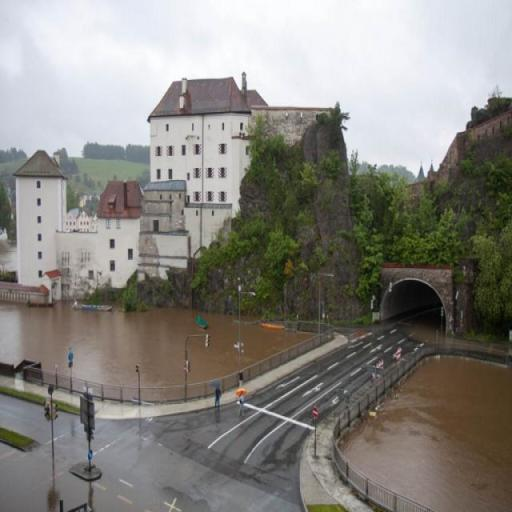flood: (342, 358, 512, 512), (0, 302, 202, 387), (189, 314, 238, 384), (243, 322, 314, 367), (398, 309, 475, 344)
house: (138, 79, 272, 268), (15, 160, 70, 292), (94, 178, 138, 274)
